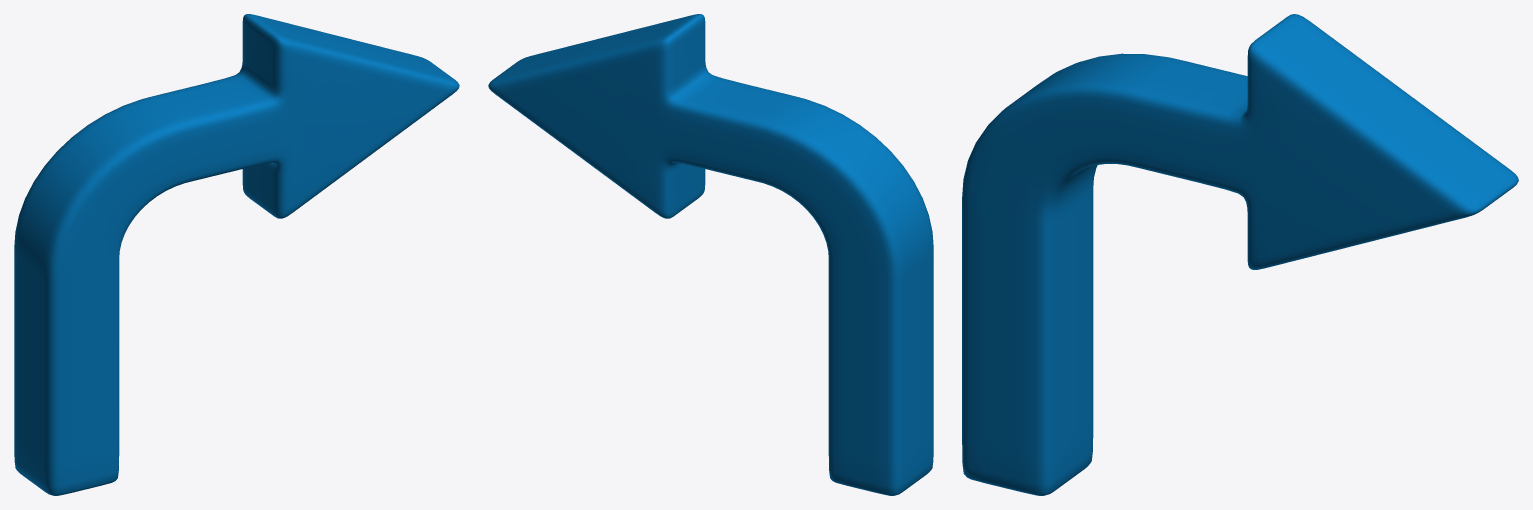
Rendered from RightArrowSmooth.fbx.
3 views of the same model, side by side, from view 1: azimuth 30°, elevation 25°; view 2: azimuth 150°, elevation 25°; view 3: azimuth 330°, elevation 25° (orthographic). The views are drawn at different scales.
Parts seen in each view (by area): view 1: Rught_Arrow; view 2: Rught_Arrow; view 3: Rught_Arrow.
Boxes of the visible parts, x1,y1,x2,y2 form: Rught_Arrow: (14,14,459,495); Rught_Arrow: (488,14,933,495); Rught_Arrow: (962,14,1518,495).
Size of the model in its own units: 458 by 428 by 80.
